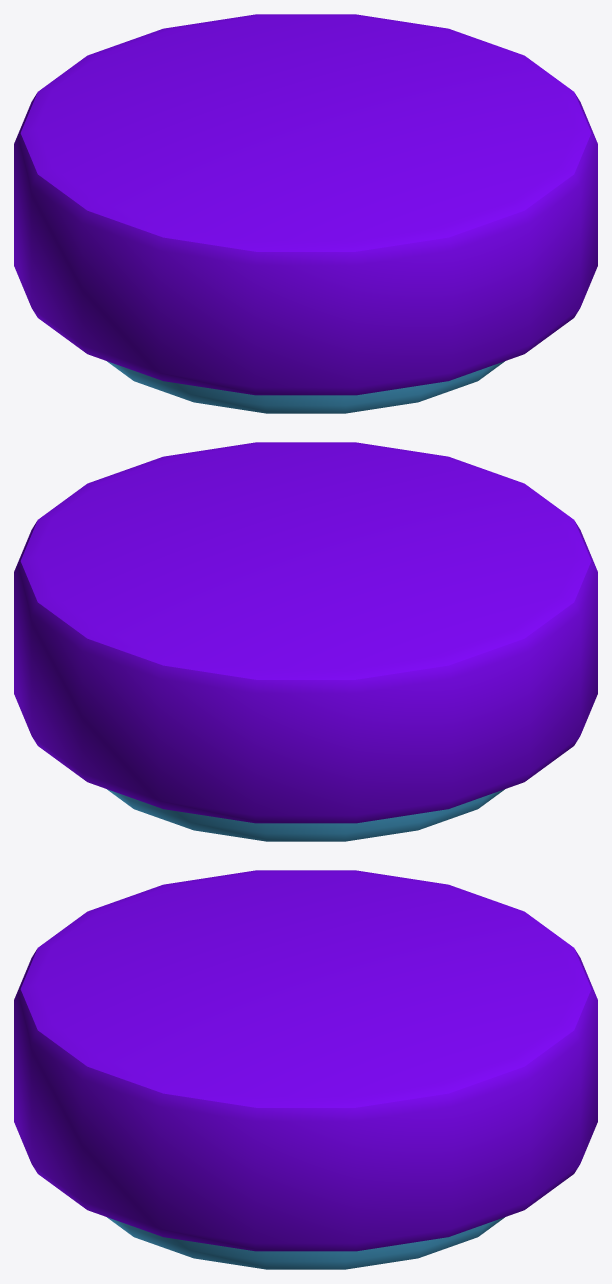
Rendered from Hanging_Hammer_Socket_01.fbx.
3 renders of one model, top to bottom at view 1: azimuth 30°, elevation 25°; view 2: azimuth 150°, elevation 25°; view 3: azimuth 270°, elevation 25°, orthographic.
Visible parts, largest first — view 1: Obstacle_Hanging_Hammer_Socket_01; view 2: Obstacle_Hanging_Hammer_Socket_01; view 3: Obstacle_Hanging_Hammer_Socket_01.
Part boxes in pixels (<box>): Obstacle_Hanging_Hammer_Socket_01: <box>14,14,597,413</box>; Obstacle_Hanging_Hammer_Socket_01: <box>14,442,597,841</box>; Obstacle_Hanging_Hammer_Socket_01: <box>14,870,597,1269</box>.
Size of the model in its own units: 49.24 by 18.52 by 50.
Materials: 1 (1 with a texture image).
